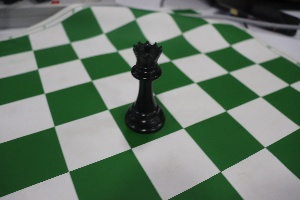black_queen: (121, 31, 170, 135)
